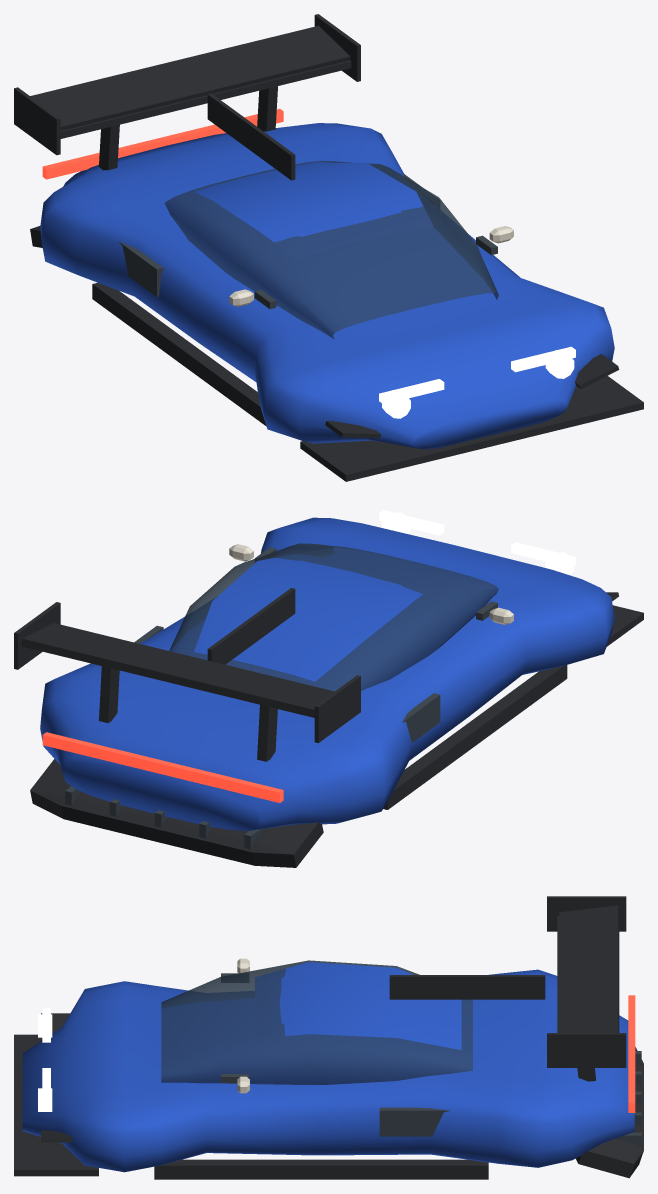
The model's file is veloce_body.glb.
3 renders of one model, top to bottom at view 1: azimuth 30°, elevation 25°; view 2: azimuth 150°, elevation 25°; view 3: azimuth 270°, elevation 25°, orthographic. The views are drawn at different scales.
Parts seen in each view (by area): view 1: veloce_body; view 2: veloce_body; view 3: veloce_body.
Part boxes in pixels (x1,y1,x2,y2): veloce_body: (14,14,643,481); veloce_body: (14,510,643,867); veloce_body: (14,896,643,1179).
Size of the model in its own units: 2.6 by 1.21 by 4.45.
